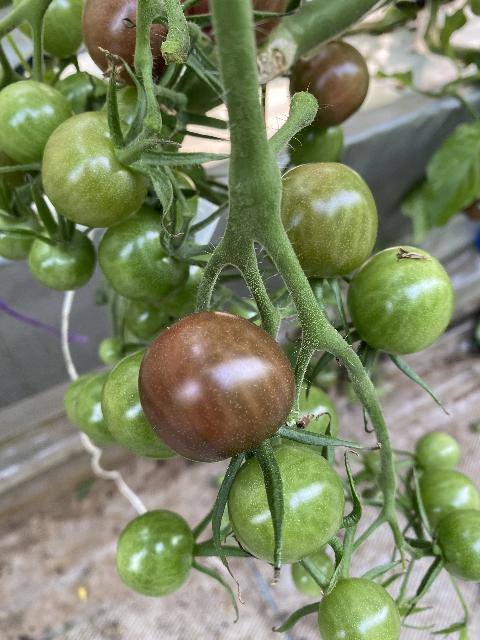l_fully_ripened: (137, 311, 295, 462)
l_green: (227, 444, 345, 565), (261, 162, 378, 278), (41, 111, 152, 228), (345, 246, 455, 354), (98, 206, 191, 304), (101, 347, 179, 459), (115, 510, 195, 598), (0, 80, 74, 171), (317, 578, 402, 639), (269, 384, 340, 457), (28, 225, 96, 291), (13, 0, 86, 59), (414, 469, 478, 530), (432, 508, 480, 582), (78, 368, 116, 444), (287, 124, 344, 167), (1, 203, 41, 262), (55, 72, 110, 114), (291, 549, 338, 595), (414, 431, 459, 473)
l_half_ripened: (82, 0, 189, 87), (289, 41, 369, 128)
